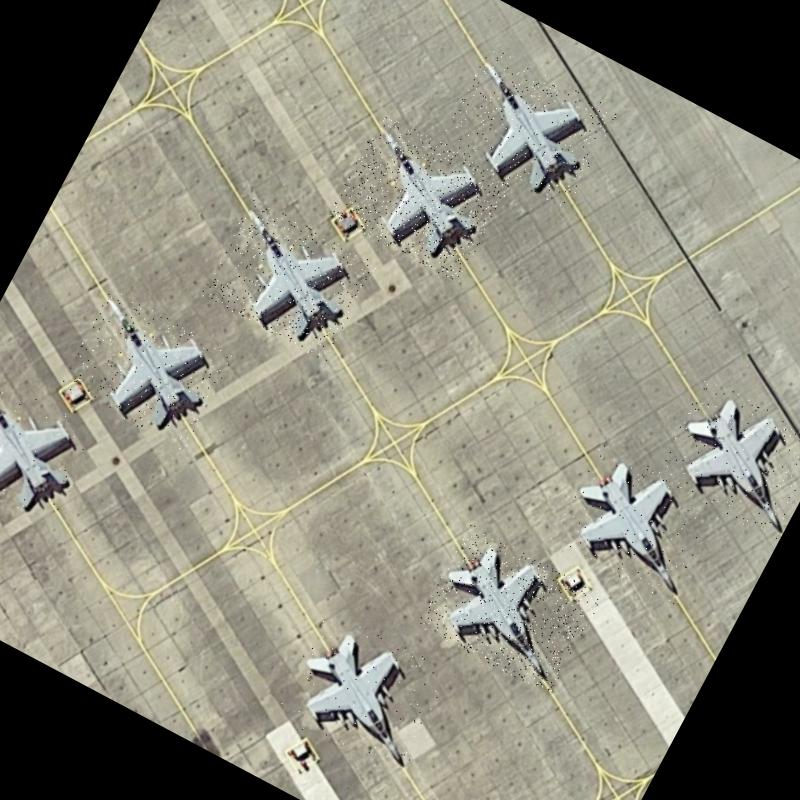A16: (415, 523, 604, 696), (271, 605, 456, 781), (328, 112, 512, 283), (548, 440, 730, 608), (437, 44, 618, 210), (198, 196, 378, 362), (58, 288, 234, 451), (652, 377, 800, 543), (0, 366, 103, 536)
